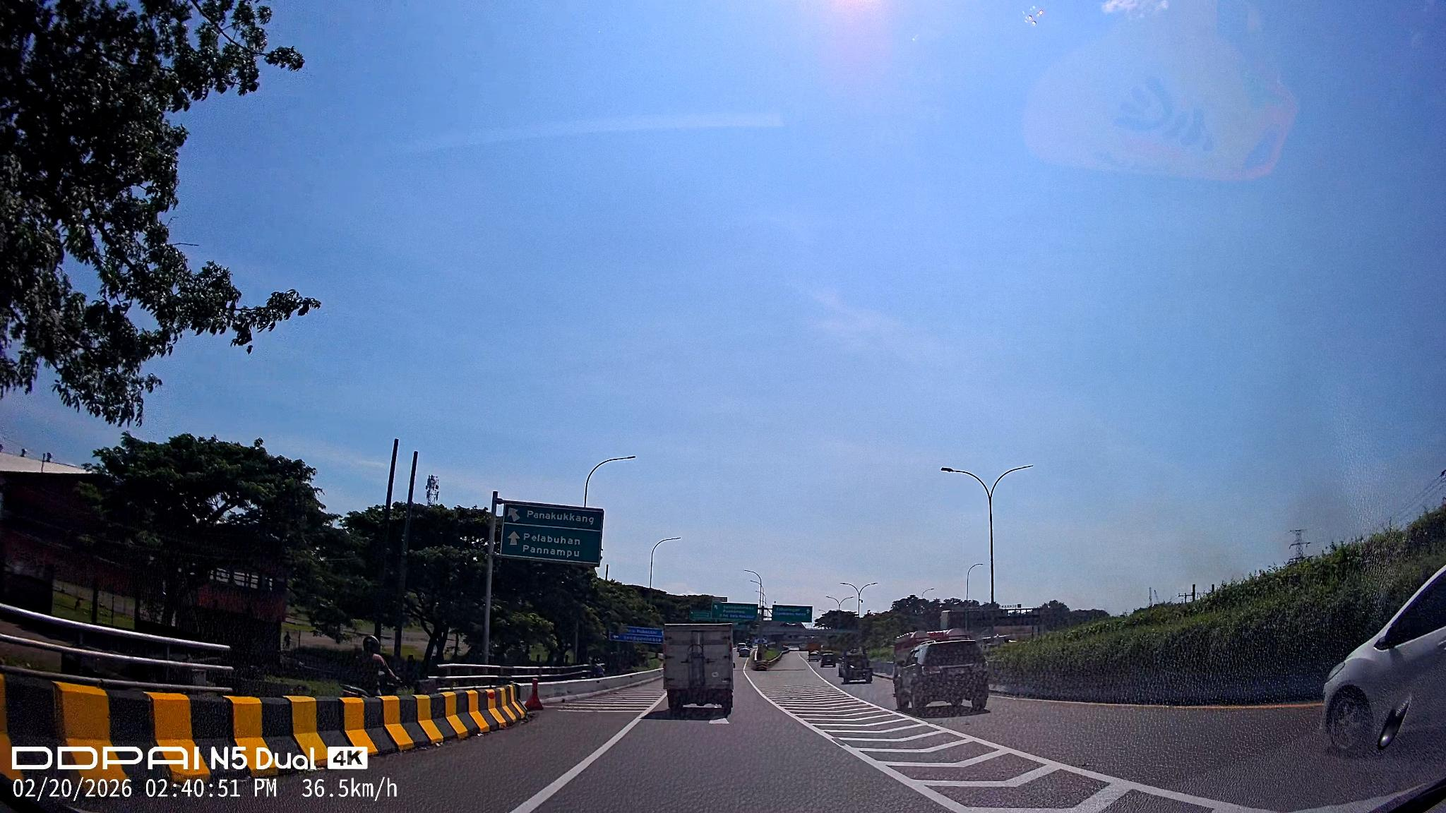rambu_teks: (503, 504, 604, 564)
